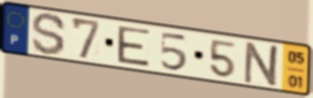5: (158, 30, 189, 72), (208, 38, 238, 79)
7: (69, 16, 103, 61)
E: (115, 24, 152, 69)
N: (241, 40, 283, 89)
S: (30, 11, 69, 58)
